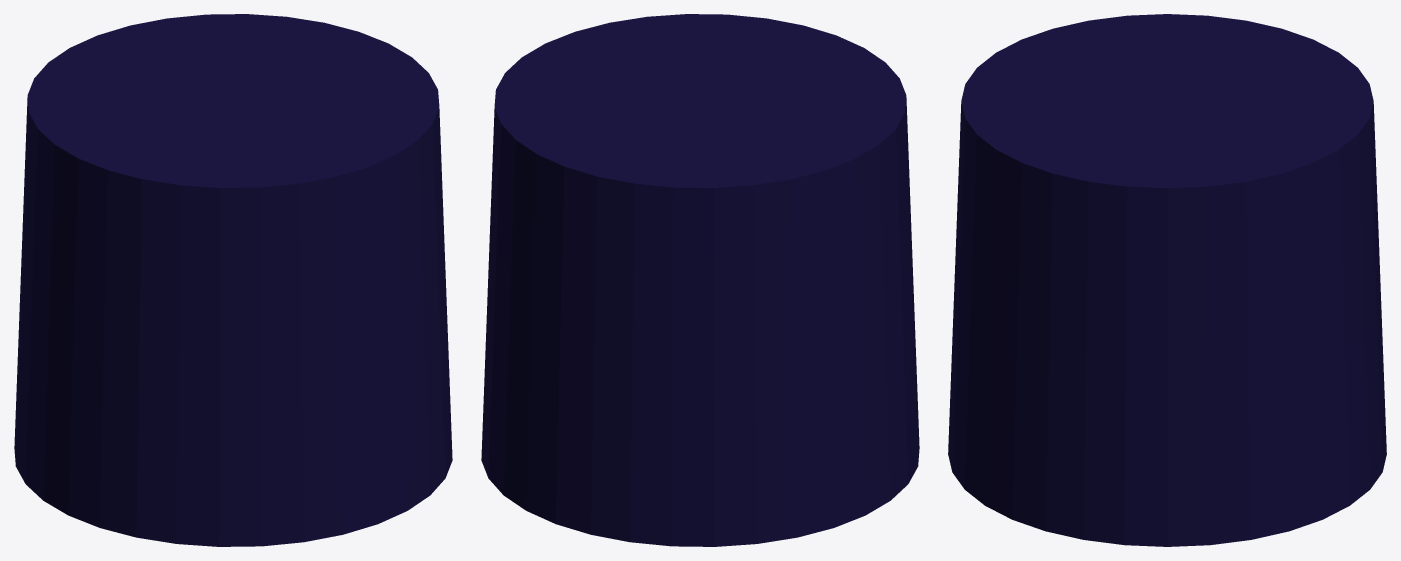
Rendered from blue_cup.obj.
3 views of the same model, side by side, from view 1: azimuth 30°, elevation 25°; view 2: azimuth 150°, elevation 25°; view 3: azimuth 270°, elevation 25° (orthographic).
Visible parts, largest first — view 1: blue_cup_Cylinder.001; view 2: blue_cup_Cylinder.001; view 3: blue_cup_Cylinder.001.
Part boxes in pixels (<box>): blue_cup_Cylinder.001: <box>14,14,452,546</box>; blue_cup_Cylinder.001: <box>481,14,919,546</box>; blue_cup_Cylinder.001: <box>948,14,1386,546</box>.
Bounding box in the file's own units: 0.0602 × 0.0535 × 0.0602.
